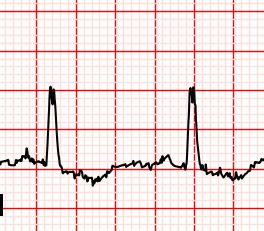T inversion: (71, 161, 120, 186)
